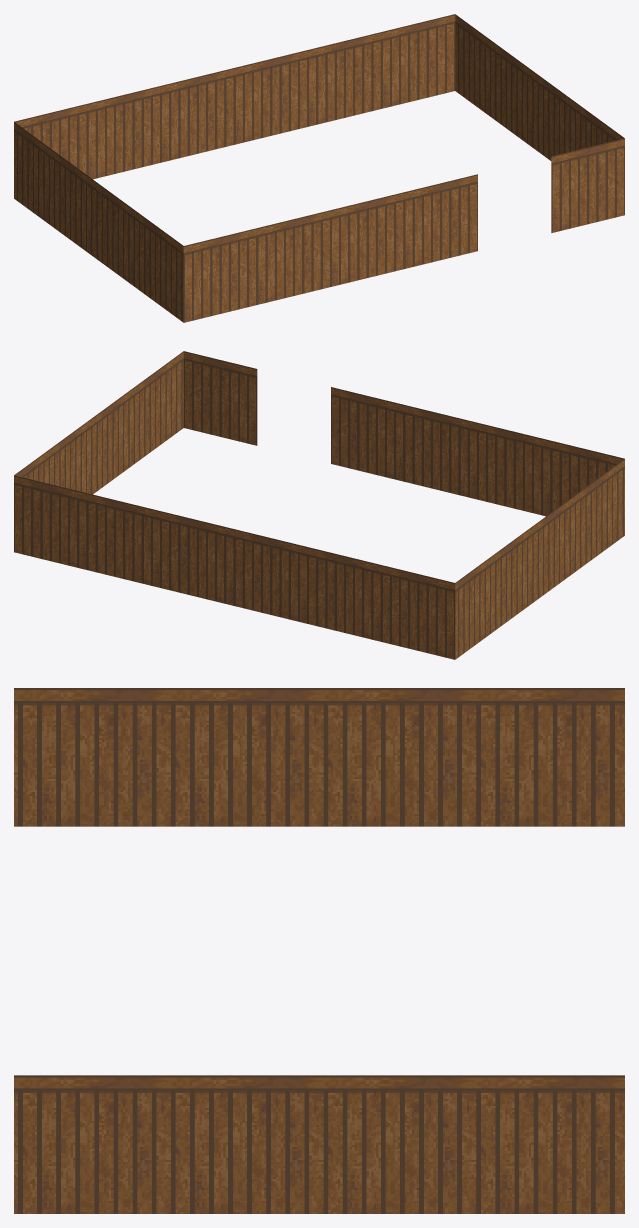
File: Building_LowerWalls.fbx
3 renders of one model, top to bottom at view 1: azimuth 30°, elevation 25°; view 2: azimuth 150°, elevation 25°; view 3: azimuth 270°, elevation 25°, orthographic. The views are drawn at different scales.
Visible parts, largest first — view 1: Building_LowerWalls; view 2: Building_LowerWalls; view 3: Building_LowerWalls.
Boxes of the visible parts, left/top/right/bottom form: Building_LowerWalls: left=14, top=14, right=624, bottom=322; Building_LowerWalls: left=14, top=351, right=624, bottom=659; Building_LowerWalls: left=14, top=688, right=624, bottom=1213.
Size of the model in its own units: 6 by 1 by 4.
